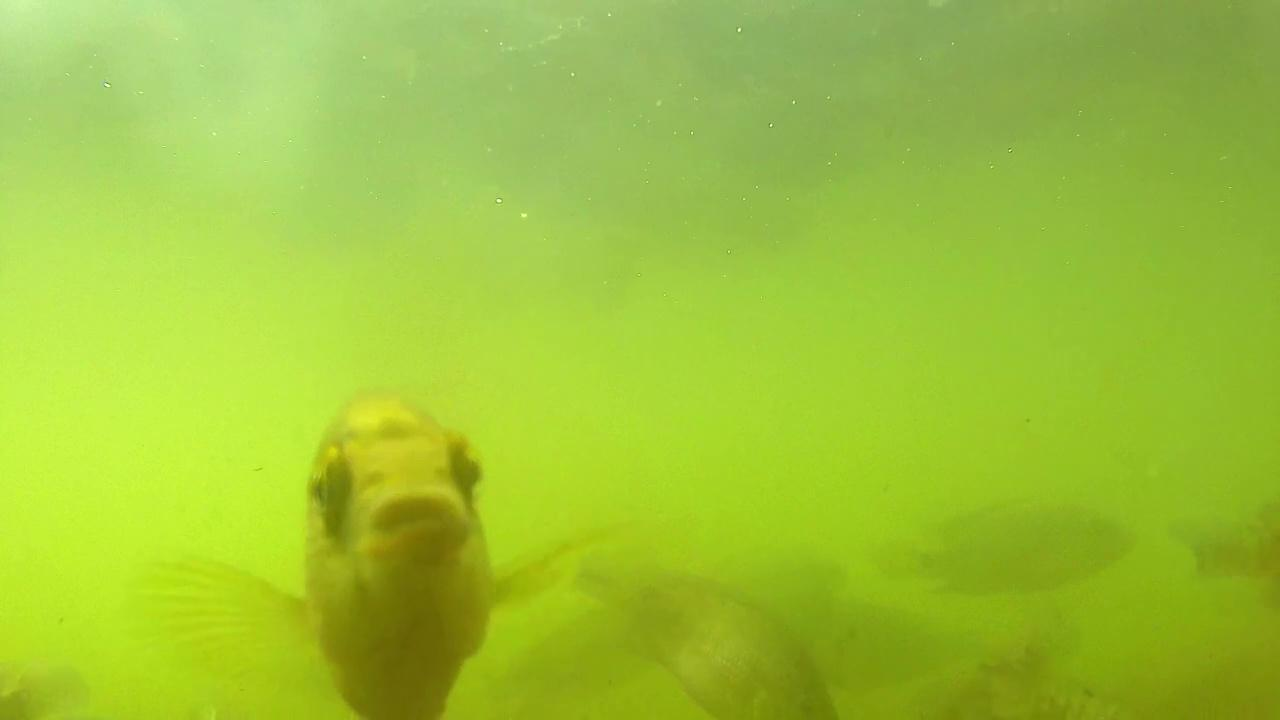Tilapia: (149, 384, 588, 720), (889, 484, 1134, 596)
